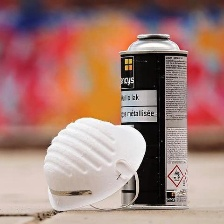aerosol_cans: (114, 27, 193, 213)
